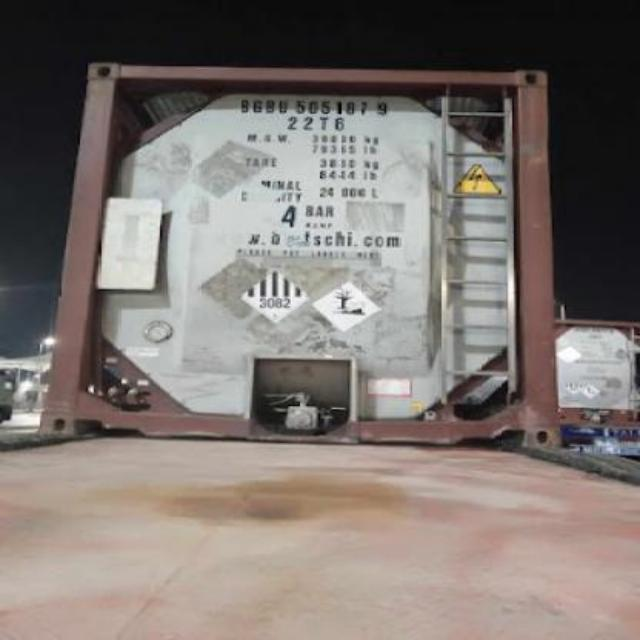0: (306, 94, 318, 116)
1: (334, 95, 342, 115)
5: (322, 89, 332, 115), (294, 95, 306, 115)
7: (356, 94, 368, 116)
8: (346, 95, 356, 118)
9: (372, 95, 392, 118)
B: (238, 94, 250, 116), (266, 94, 276, 116)
G: (250, 94, 262, 114)
U: (276, 95, 288, 115)
